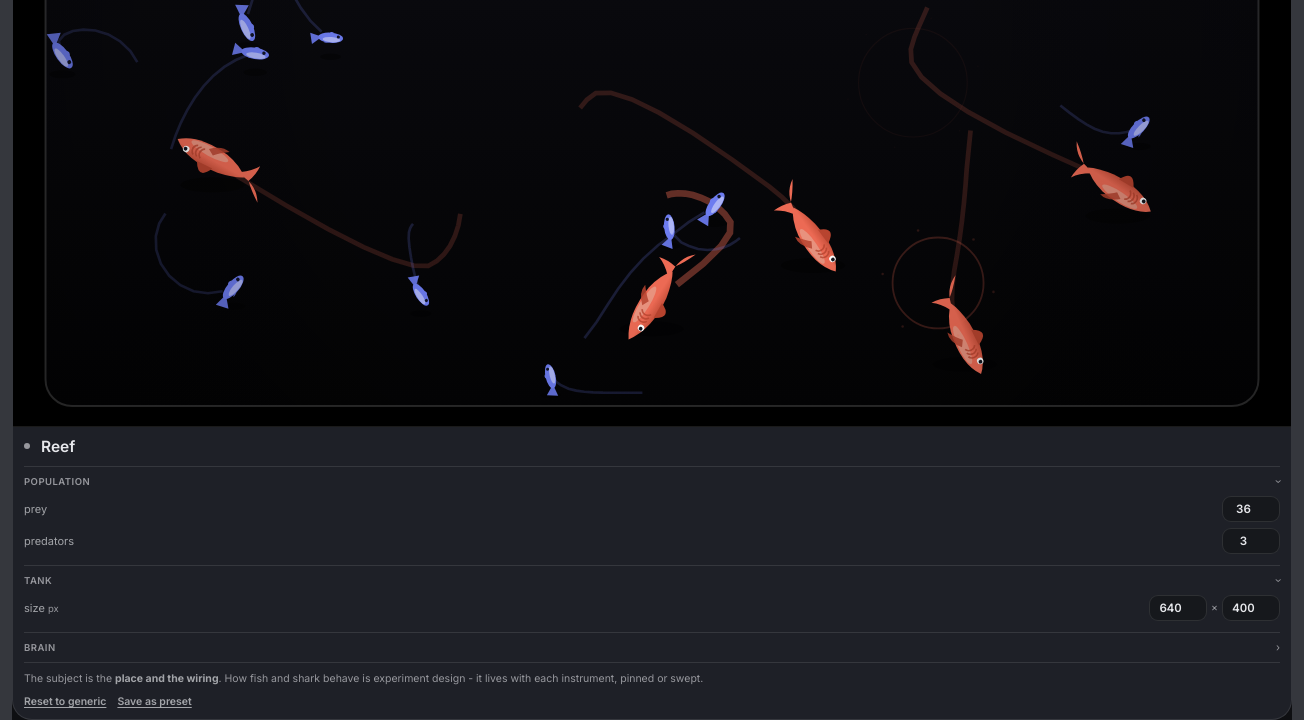
Test: SubjectCard › "Save as preset" snapshots the current base, edits included
(page scrolled)
Click the button "Save as preset". click: point(155, 702)
box: x1=117 y1=695 x2=192 y2=708
(page scrolled)
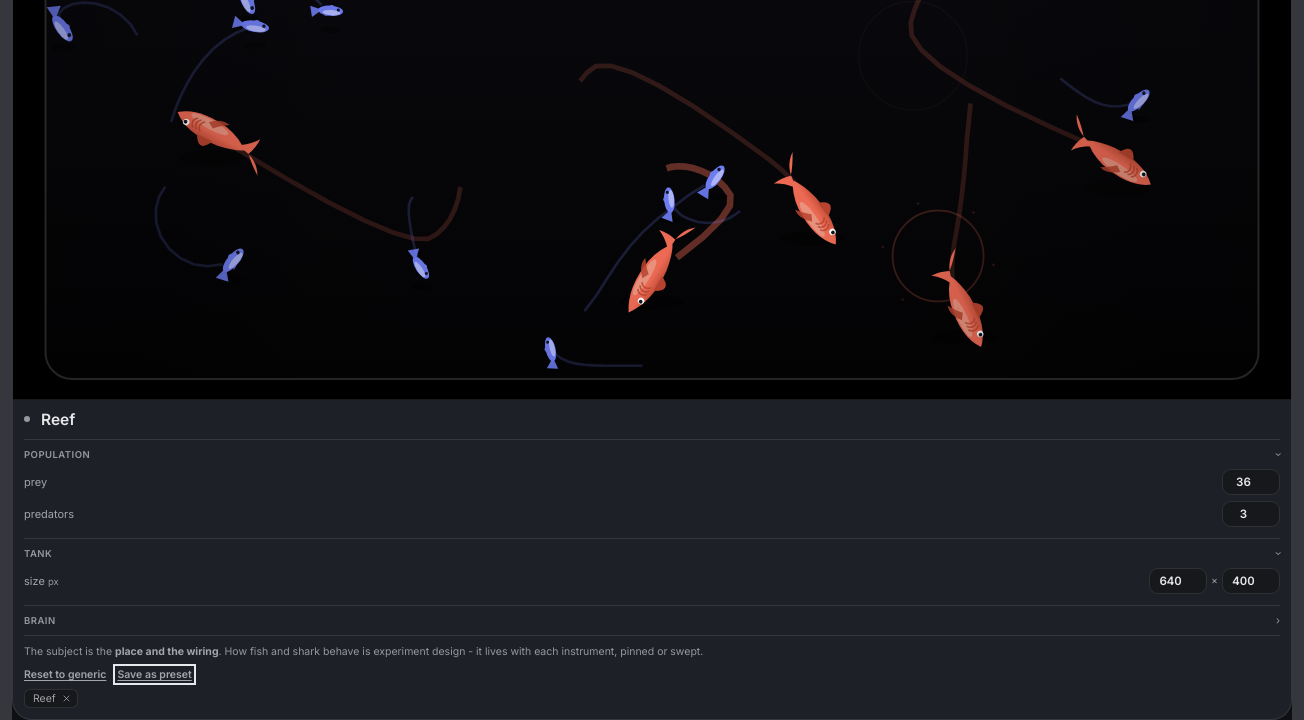
Now the button "Reef" is shown, box x1=25 y1=690 x2=60 y2=707
